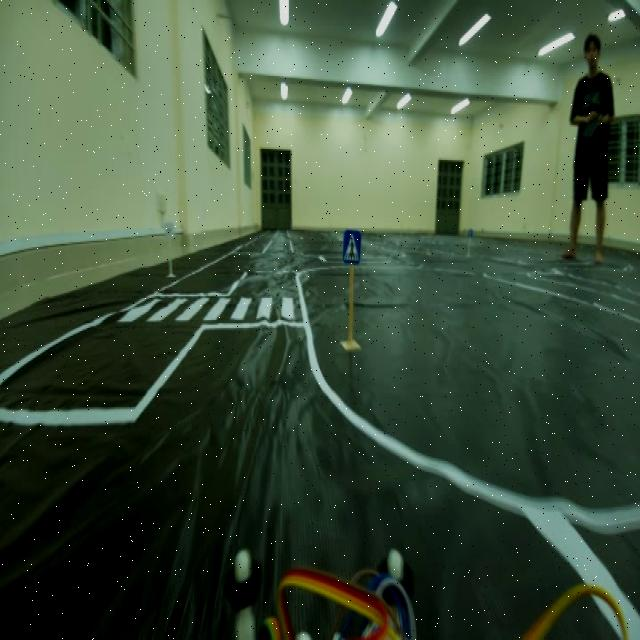crosswalk: (339, 220, 368, 282)
